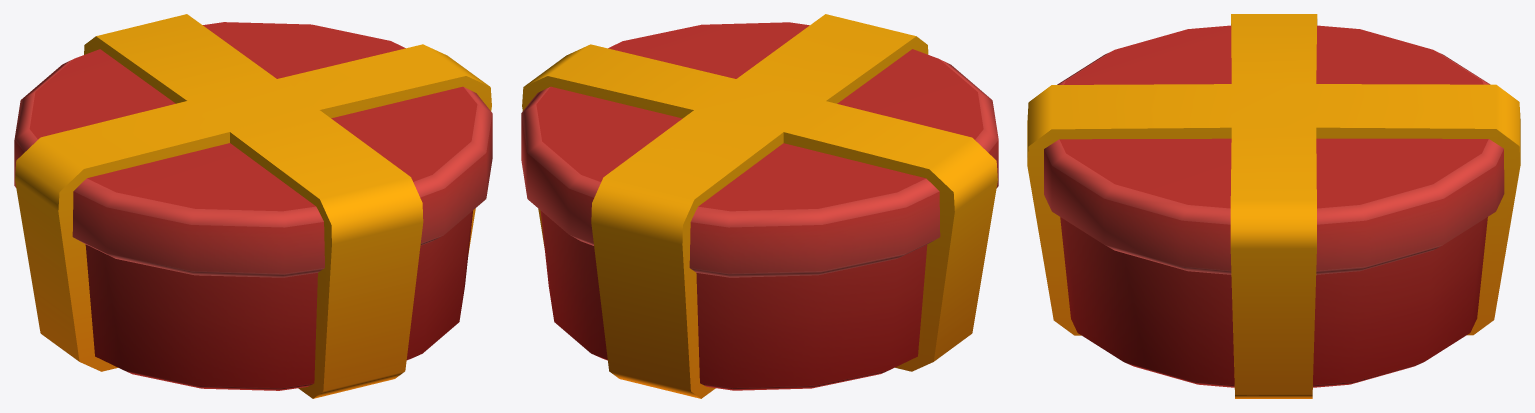
The model's file is giftbox_004.fbx.
3 renders of one model, left to right at view 1: azimuth 30°, elevation 25°; view 2: azimuth 150°, elevation 25°; view 3: azimuth 270°, elevation 25°, orthographic.
Visible parts, largest first — view 1: giftbox_004; view 2: giftbox_004; view 3: giftbox_004.
Part boxes in pixels (x1,y1,x2,y2): giftbox_004: (14, 14, 492, 398); giftbox_004: (521, 14, 998, 398); giftbox_004: (1027, 14, 1520, 398).
Bounding box in the file's own units: 235 × 232 × 109.
